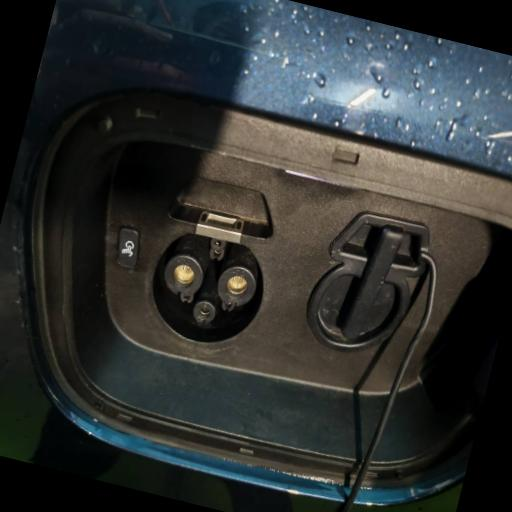DC_charging_port: (136, 219, 279, 360)
DC_hole: (158, 250, 209, 303), (212, 260, 262, 313)
PE: (190, 299, 218, 329)
